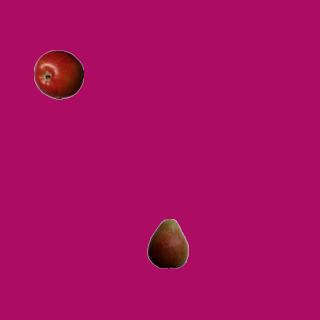Apple Braeburn: (33, 49, 83, 99)
Pear Forelle: (142, 218, 192, 268)
